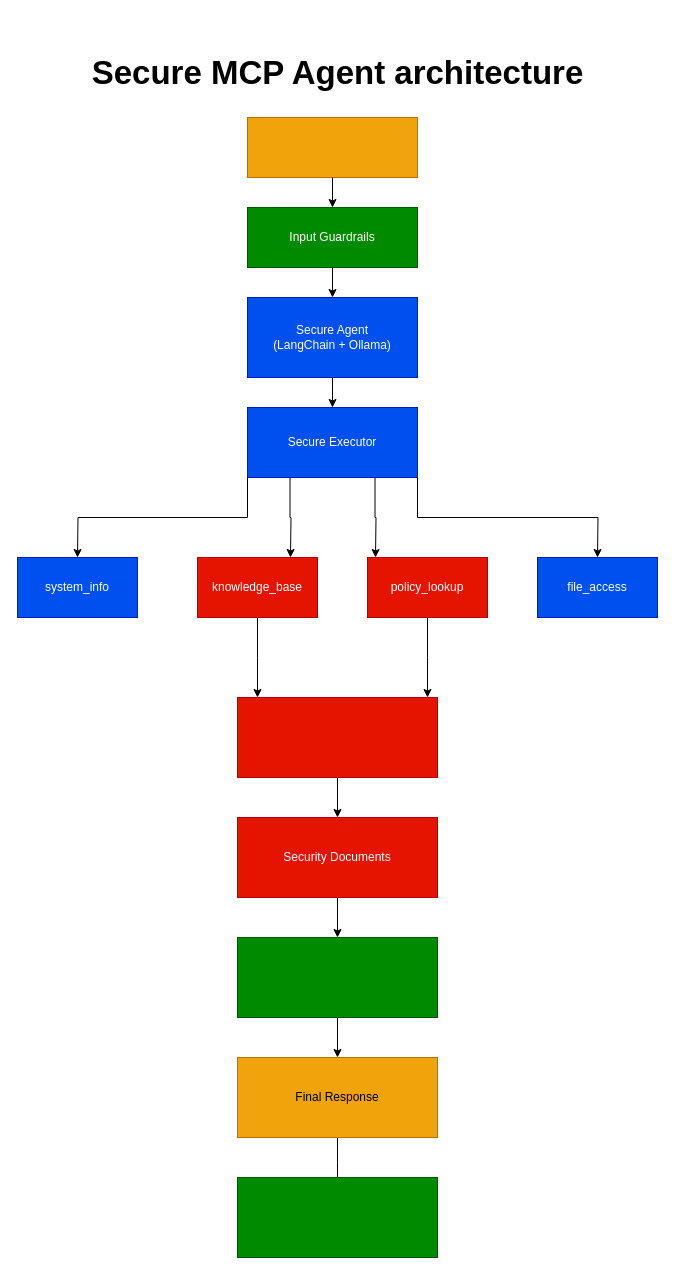
The diagram is 675 pixels wide and 1275 high, and some of its shapes have lost their labels. The shapes that lost their labels are listed below. From the top down, each one's centre as x and y in pixels, then its label:
At (332,147): "User Query".
At (337,737): "FAISS Vector Index".
At (337,977): "Output Gaurdrails".
At (337,1217): "Audit Logging Across All Layers".
